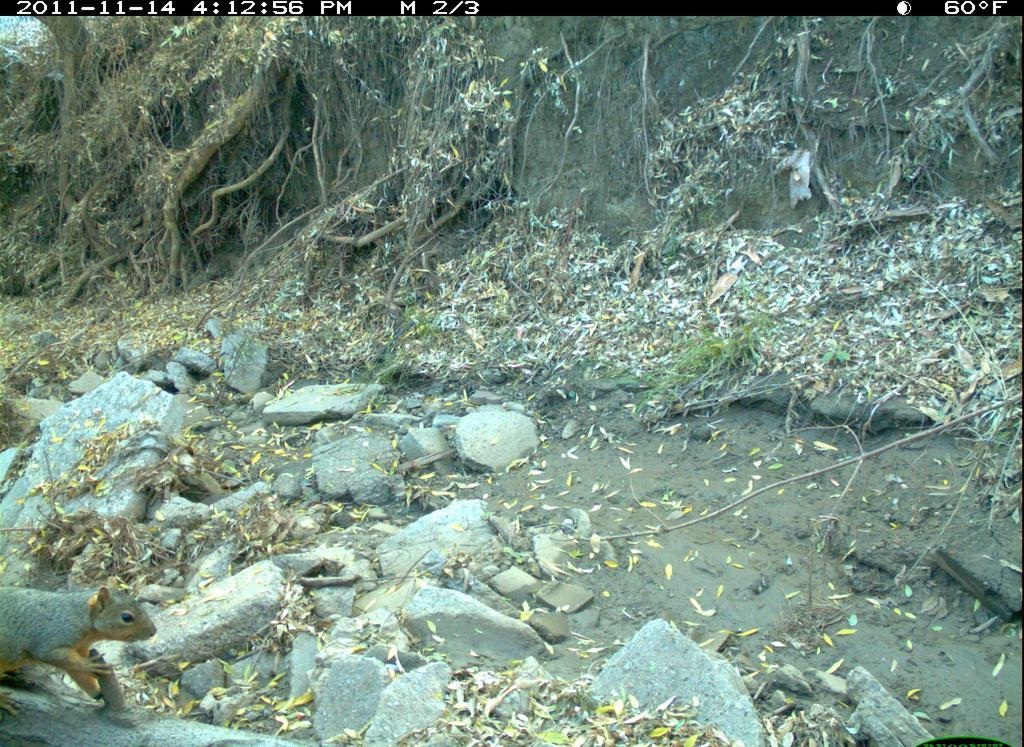squirrel: (3, 545, 164, 717)
